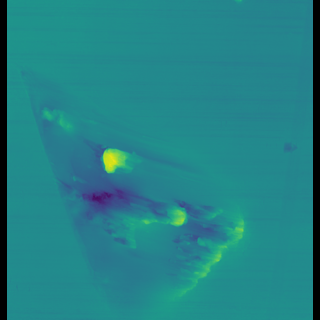Loch: (40, 95, 251, 300)
